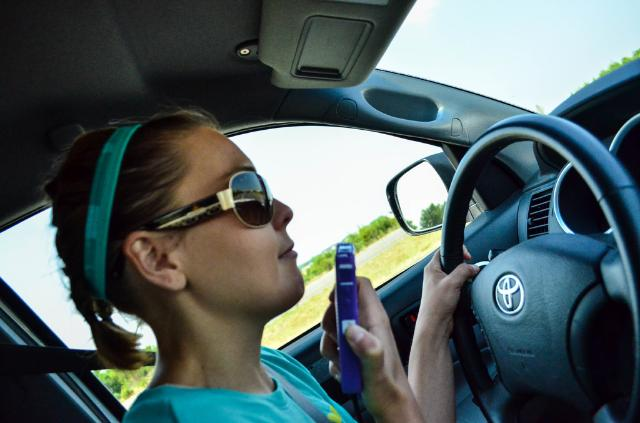Seatbelt: (0, 342, 156, 378)
